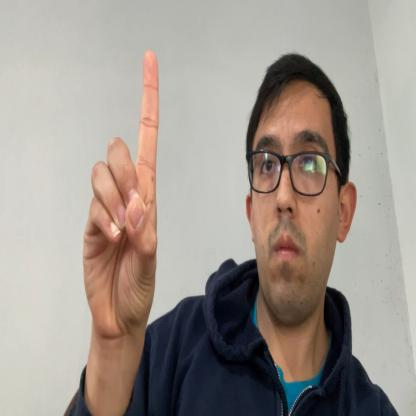D: (83, 49, 159, 333)
